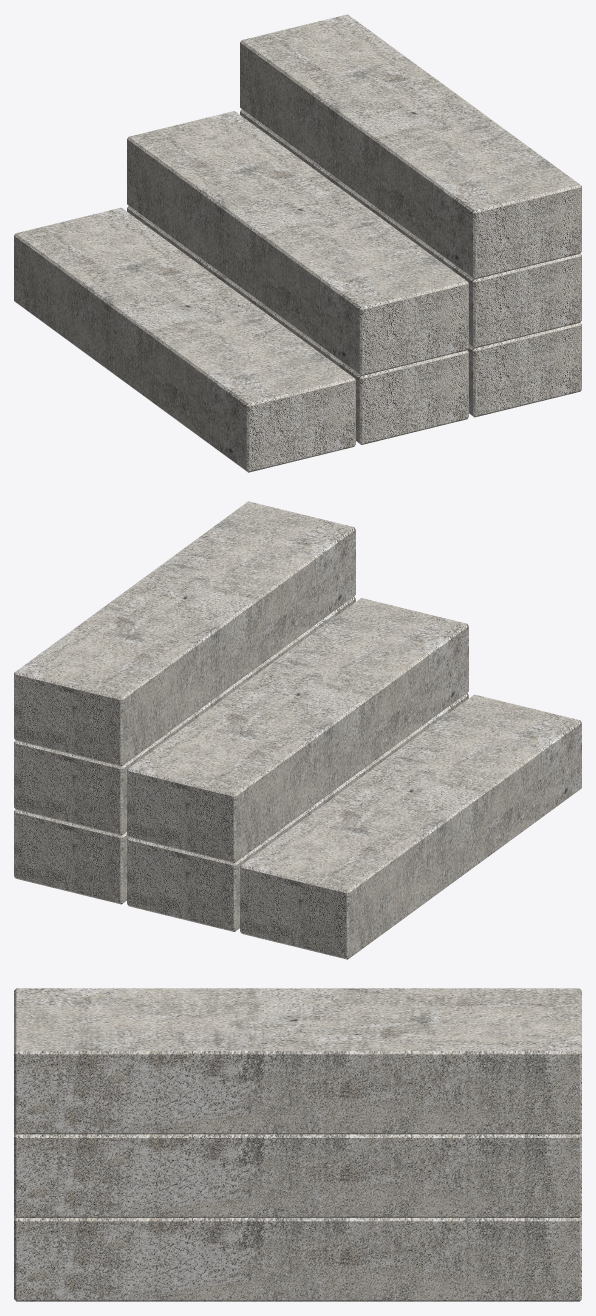
The model's file is SM_Unhyun_Noan_Step_A001.fbx.
3 renders of one model, top to bottom at view 1: azimuth 30°, elevation 25°; view 2: azimuth 150°, elevation 25°; view 3: azimuth 270°, elevation 25°, orthographic. The views are drawn at different scales.
Visible parts, largest first — view 1: SM_Unhyun_Noan_Step_A001; view 2: SM_Unhyun_Noan_Step_A001; view 3: SM_Unhyun_Noan_Step_A001.
Boxes of the visible parts, left/top/right/bottom form: SM_Unhyun_Noan_Step_A001: left=14, top=14, right=581, bottom=472; SM_Unhyun_Noan_Step_A001: left=14, top=501, right=581, bottom=959; SM_Unhyun_Noan_Step_A001: left=14, top=988, right=581, bottom=1301.
Bounding box in the file's own units: 102 × 59.9 × 123.
